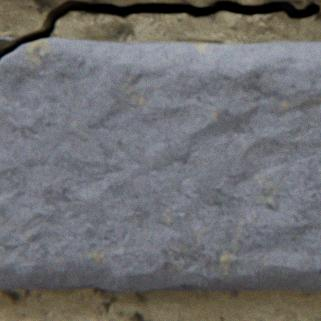brick: (264, 0, 307, 1)
broken_brick: (0, 38, 320, 290), (0, 37, 17, 41)
crack: (0, 0, 320, 61)
